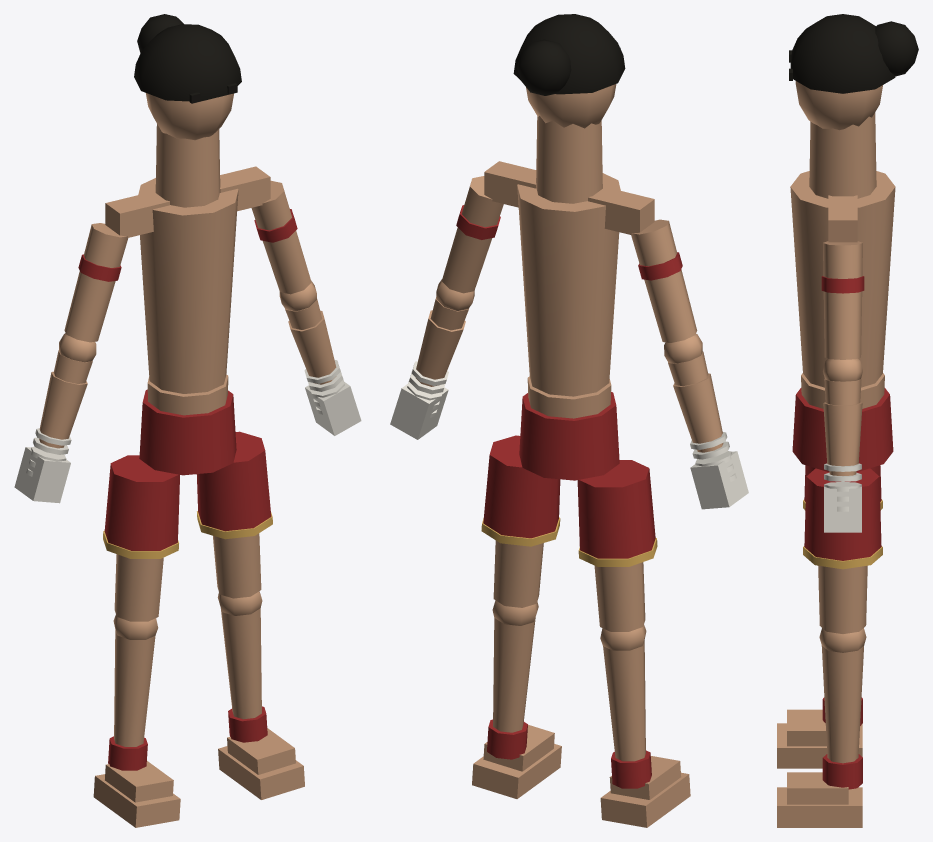
Rendered from muaythai-body.glb.
The picture shows the model from 3 angles, left to right: view 1: azimuth 30°, elevation 25°; view 2: azimuth 150°, elevation 25°; view 3: azimuth 270°, elevation 25°; orthographic projection. The views are drawn at different scales.
Visible parts, largest first — view 1: FittedTorso, ShortsLeg (×2), Hair, ShortsWaist, Neck, Shin-1, UpperArm-1, Shin1, ShoulderLink (×2), UpperArm1, Thigh-1, Face (+17 smaller); view 2: FittedTorso, ShortsLeg (×2), ShortsWaist, Neck, Hair, Shin-1, UpperArm-1, Shin1, ShoulderLink (×2), UpperArm1, Thigh-1, Thigh1 (+18 smaller); view 3: FittedTorso, Hair, Neck, ShortsLeg, ShortsWaist, Shin1, UpperArm1, Thigh1, Face, Sandal1, Bracer1, HairKnot (+12 smaller).
Part boxes in pixels (x1,y1,x2,y2): FittedTorso: (138,178,238,393); ShortsLeg (×2): (104,431,271,550); Hair: (134,24,241,101); ShortsWaist: (139,389,236,475); Neck: (155,124,220,207); Shin-1: (114,630,155,746); UpperArm-1: (64,223,128,342); Shin1: (220,607,261,719); ShoulderLink (×2): (105,166,270,237); UpperArm1: (251,180,311,294); Thigh-1: (114,554,163,621); Face: (146,93,233,140); FittedTorso: (517,173,620,396); ShortsLeg (×2): (483,435,655,558); ShortsWaist: (519,391,619,480); Neck: (536,116,602,203); Hair: (513,14,625,94); Shin-1: (603,640,645,761); UpperArm-1: (631,219,697,342); Shin1: (493,617,535,732); ShoulderLink (×2): (484,161,654,235); UpperArm1: (442,176,503,293); Thigh-1: (594,562,645,631); Thigh1: (493,540,543,607); FittedTorso: (790,171,895,387); Hair: (790,14,895,93); Neck: (809,112,876,198); ShortsLeg: (804,468,881,560); ShortsWaist: (792,388,893,471); Shin1: (821,645,863,763); UpperArm1: (823,241,862,359); Thigh1: (818,565,867,633); Face: (795,81,882,130); Sandal1: (777,787,862,827); Bracer1: (823,402,862,465); HairKnot: (875,21,918,76).
Size of the model in its own units: 0.9158 by 2.02 by 0.3369.
